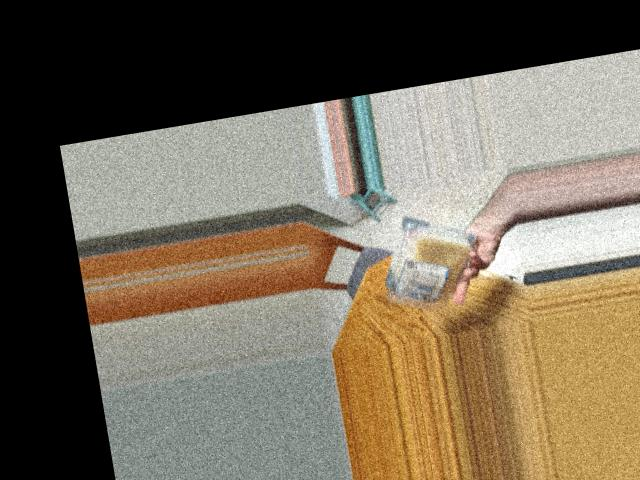cheese: (375, 210, 462, 312)
